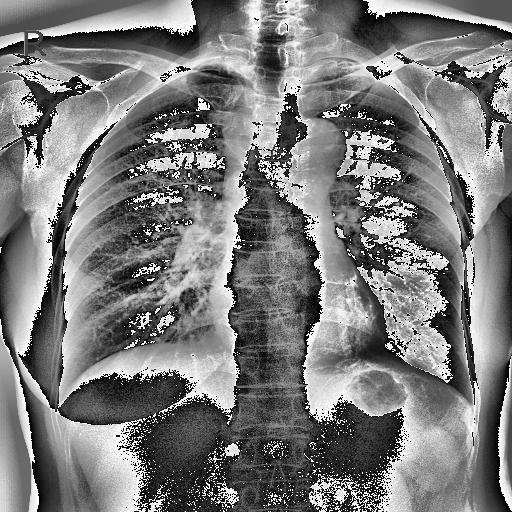0- Aortic enlargement: (284, 116, 346, 178), (276, 116, 346, 170), (276, 118, 346, 168)
10- Pleural effusion: (460, 385, 480, 415)
11- Pleural thickening: (189, 58, 249, 74), (460, 385, 480, 415)
